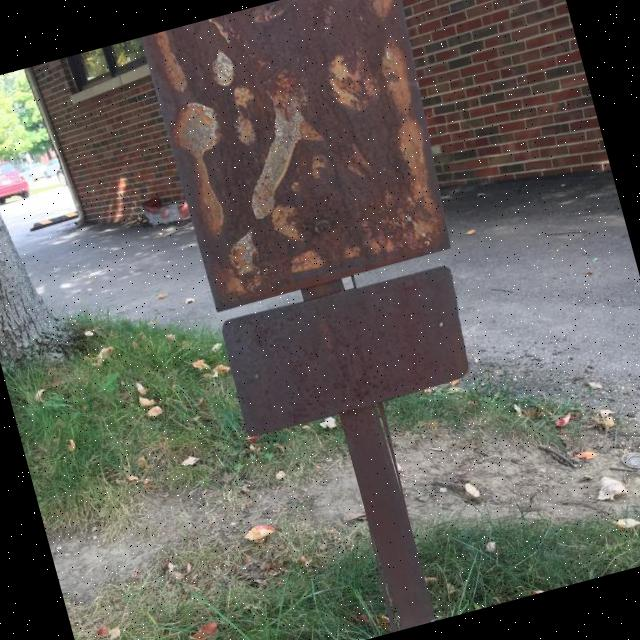Corrosion: (139, 0, 467, 312)
